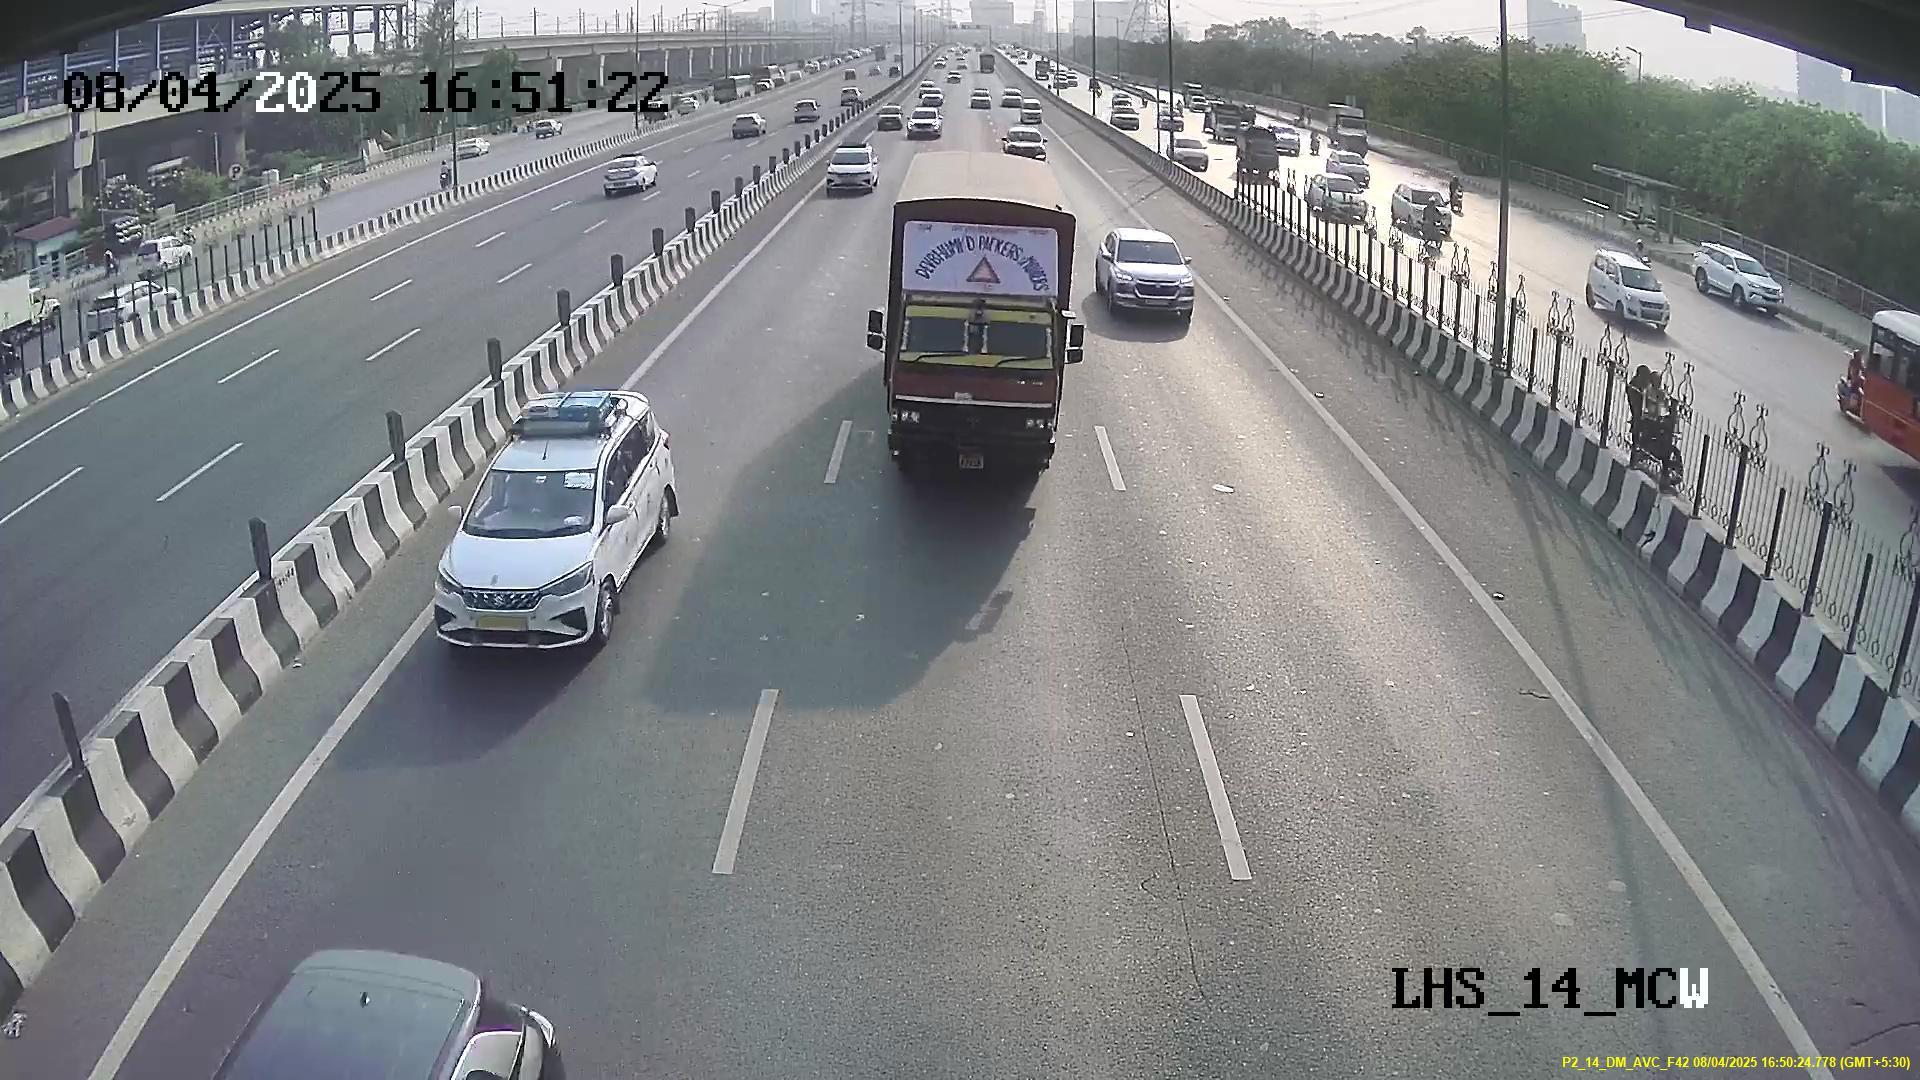car: (431, 440, 631, 653), (1103, 231, 1200, 324)
lcv: (874, 293, 1077, 479)
